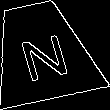N_N: (12, 22, 71, 81)
